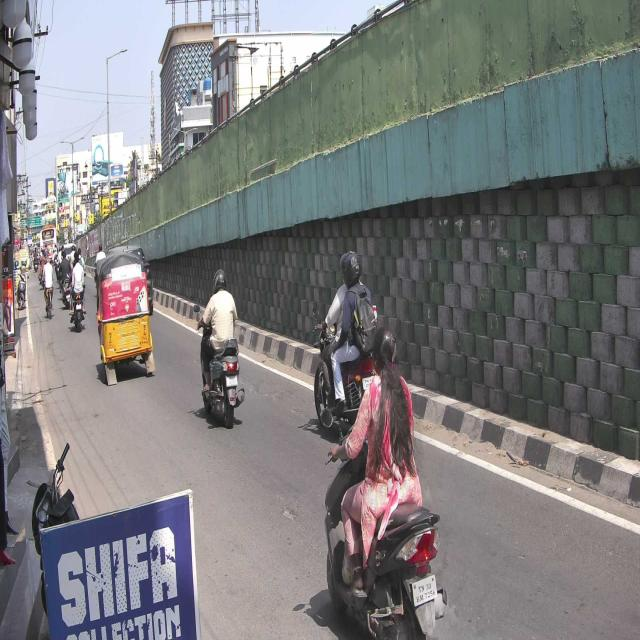single_rider: (322, 325, 452, 640), (193, 269, 246, 430)
